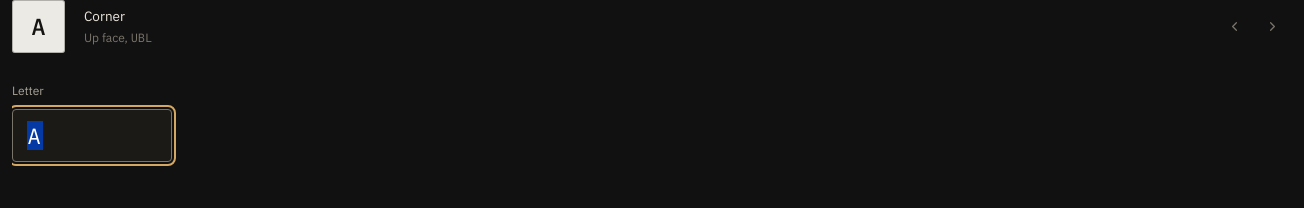
Test: lettering field completion › restores a blank letter when changing stickers and gives duplicate letters restrained error styling
Clear the field. click: (92, 136)
box: x1=12 y1=109 x2=172 y2=162
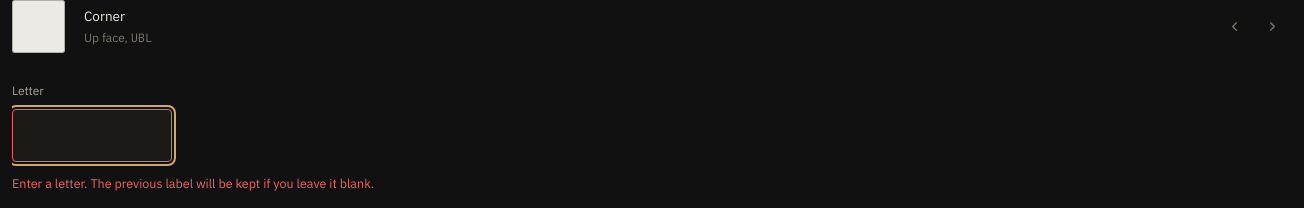
Press Enter in the field, box x1=12 y1=109 x2=172 y2=162
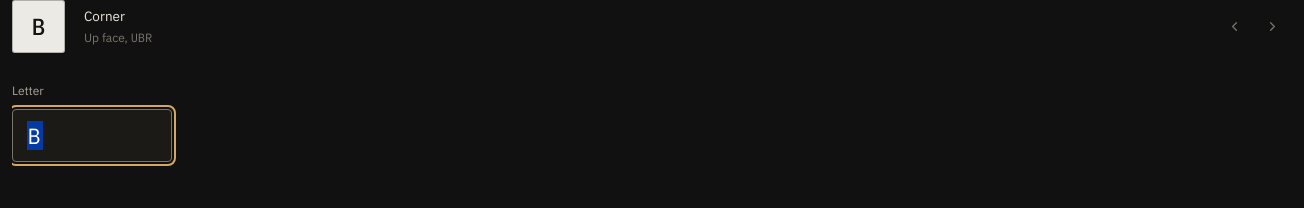
Click the button named "Previous sticker". click: (1234, 26)
box: x1=1215 y1=7 x2=1254 y2=46
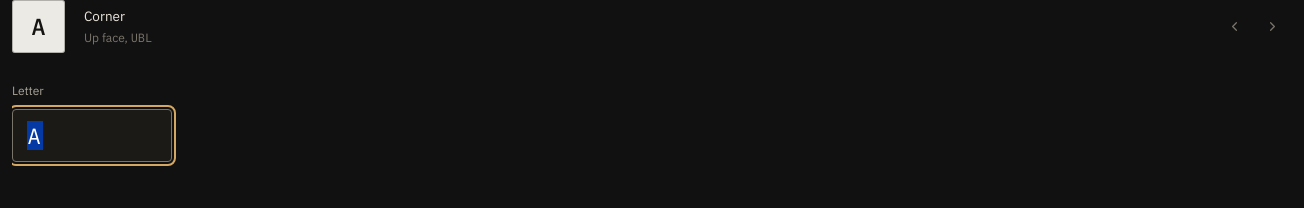
Expected: the field holds "A"
Replace the text in the field with "B". click: (92, 136)
box: x1=12 y1=109 x2=172 y2=162
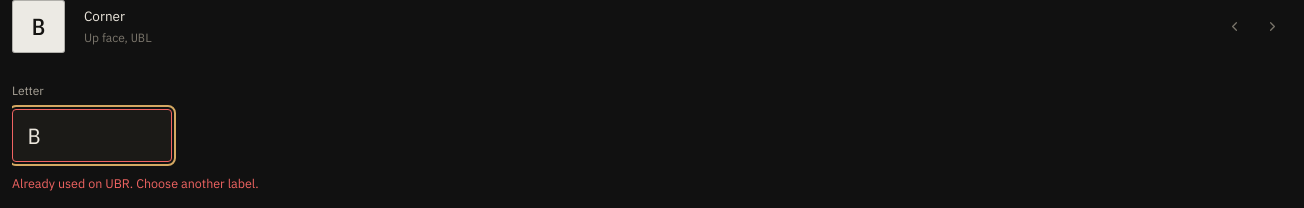
Expected: the field is marked as invalid, x1=12 y1=109 x2=172 y2=162
Expected: the text "Already used on UBR. Choose another label." has class "text-[var(--danger)]", x1=12 y1=175 x2=259 y2=191
